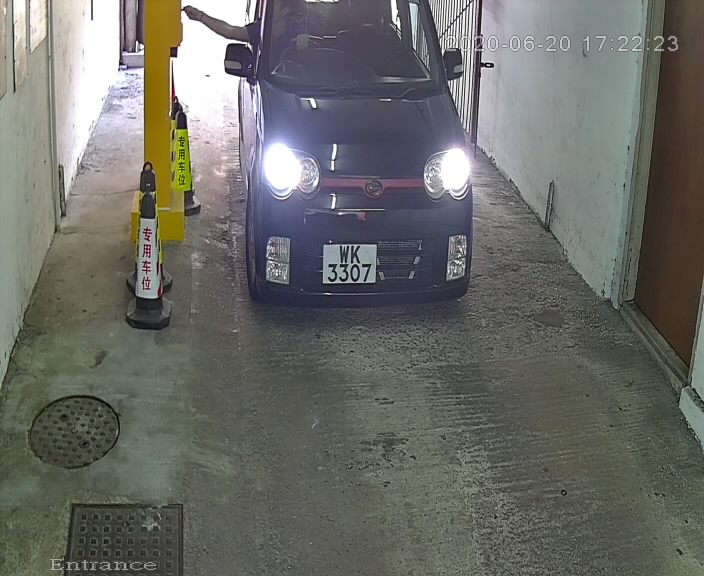privatecar: (205, 1, 500, 341)
